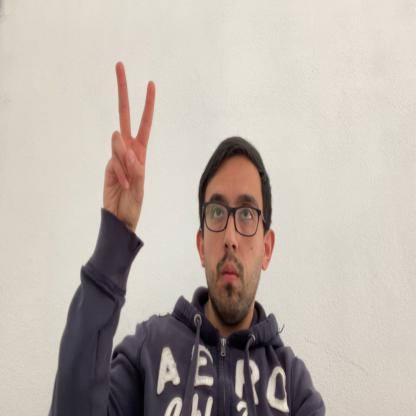V: (103, 61, 156, 229)
